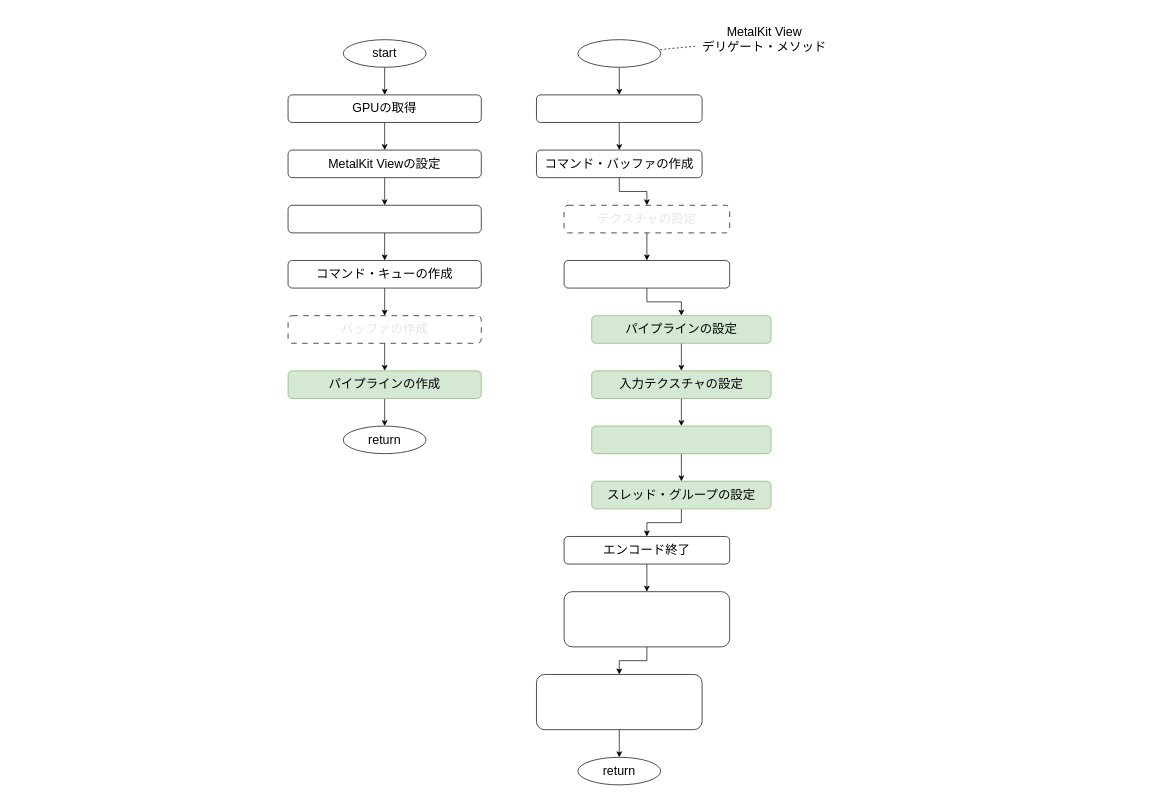
Image size: 1155x797. Some labels were removed from this diagram. The shapes that lost their labels are listed below. From the top down, each one's box as (x1, y1, x2, y2) in pixels, then its label:
(577, 39, 661, 67): draw()
(536, 94, 702, 122): ドローアブルの取得
(287, 205, 481, 233): 画像（テクスチャ）のロード
(563, 260, 730, 288): エンコーダを作成
(591, 425, 771, 454): 出力テクスチャの設定
(563, 591, 730, 647): ドローアブルを コマンド・バッファに渡す
(536, 674, 702, 730): コマンド・バッファを キューに登録
